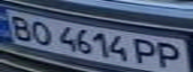1: (90, 30, 109, 59)
4: (54, 24, 78, 52), (109, 33, 130, 62)
6: (72, 28, 93, 56)
B: (3, 12, 36, 42)
O: (27, 18, 57, 46)
P: (130, 37, 163, 67), (154, 41, 187, 71)
